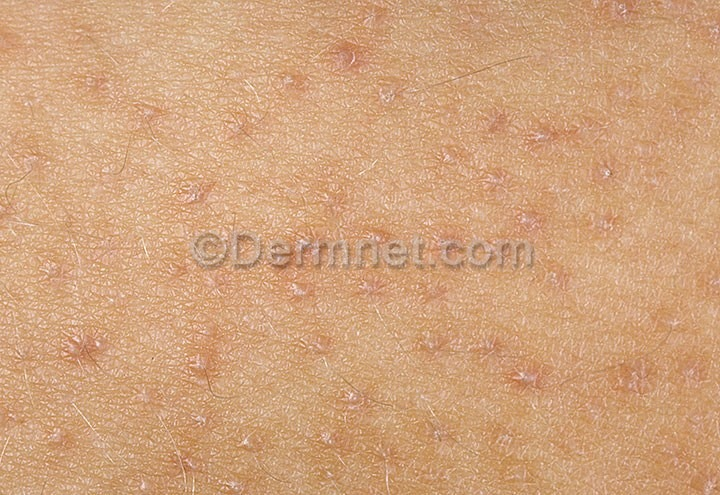Eczema: (1, 1, 719, 493)
